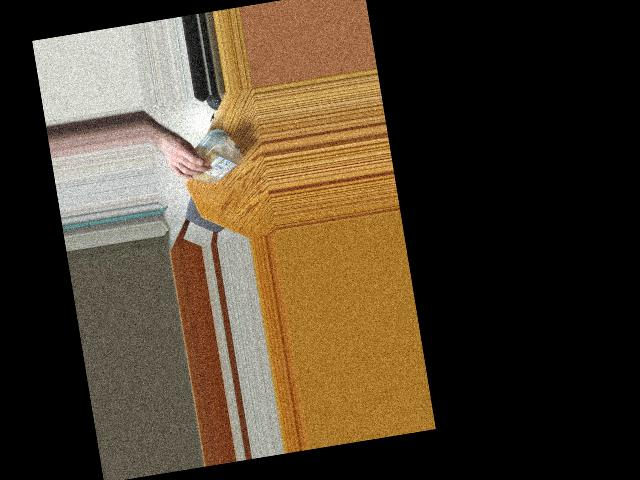cheese: (173, 128, 247, 189)
